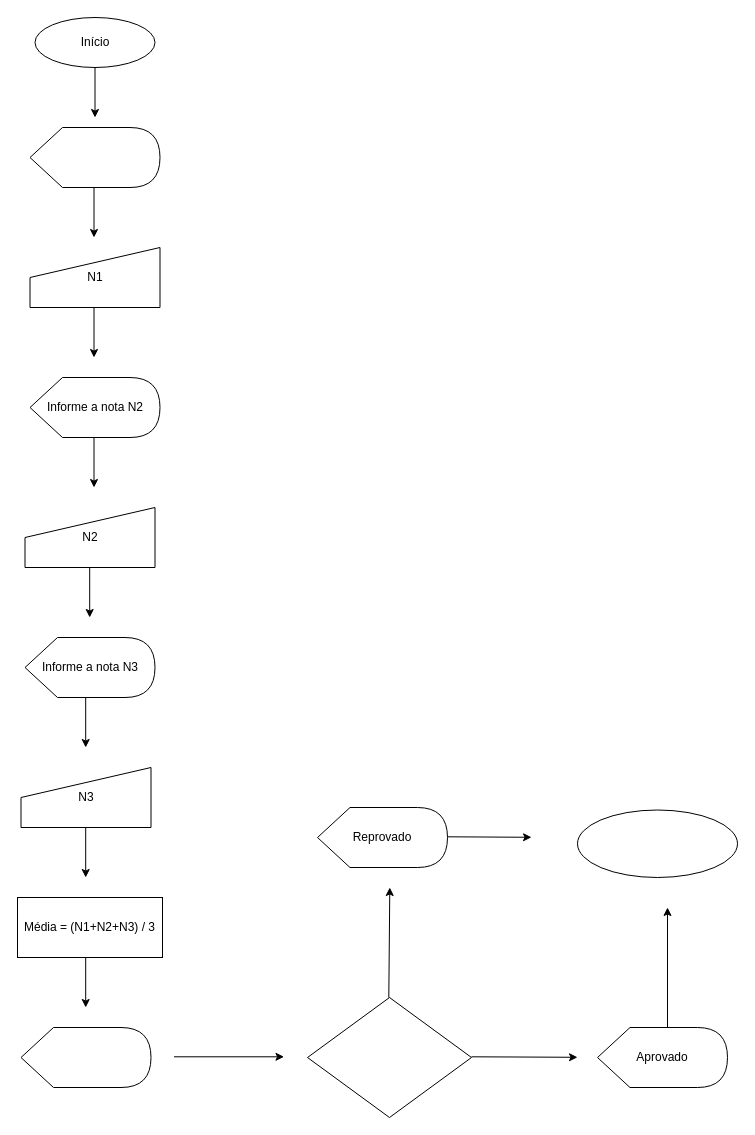
Image size: 755x1135. Some labels were removed from this diagram. Here are the shapes that lost their labels. From the top down, the centre of each, then its label:
[94,157]: Informe a nota N1
[657,843]: Fim
[85,1057]: Média
[389,1057]: A Média é maior que 7
